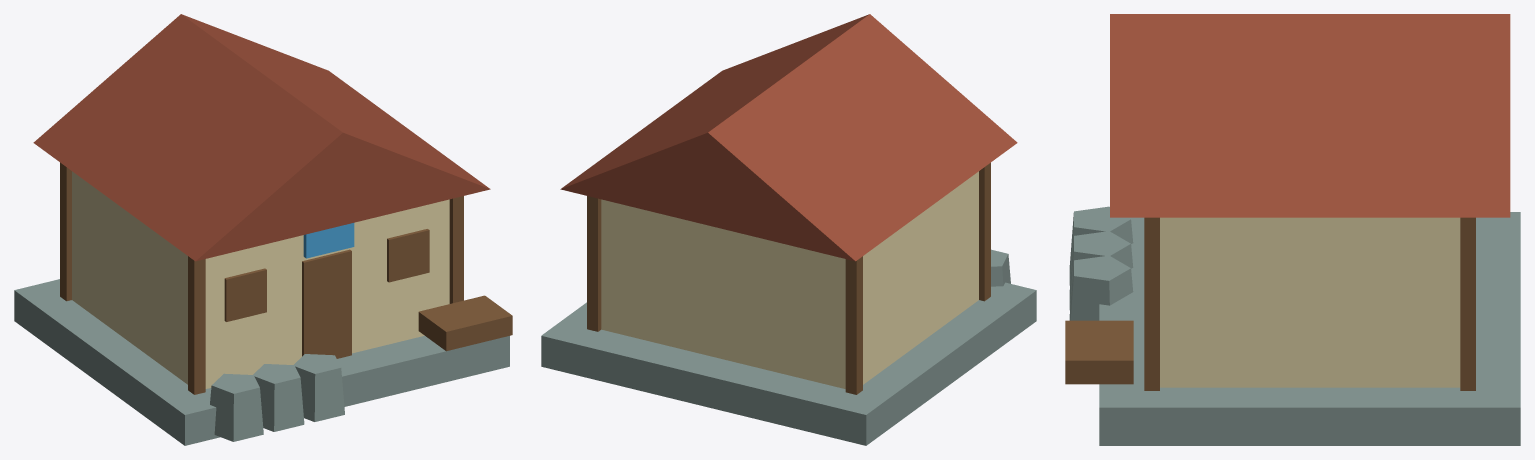
The model's file is stonemason.glb.
The picture shows the model from 3 angles, left to right: view 1: azimuth 30°, elevation 25°; view 2: azimuth 150°, elevation 25°; view 3: azimuth 270°, elevation 25°; orthographic projection. The views are drawn at different scales.
Parts seen in each view (by area): view 1: Gabled roof.001, Plaster walls.001, Foundation.002, Door.002, Work bench, Cut stone, Cut stone.001, Cut stone.002, Corner timber.004, Window.002, Window.003, Corner timber.005 (+2 smaller); view 2: Gabled roof.001, Plaster walls.001, Foundation.002, Corner timber.005, Corner timber.007, Corner timber.004, Cut stone; view 3: Gabled roof.001, Plaster walls.001, Foundation.002, Work bench, Cut stone.002, Corner timber.006, Corner timber.007, Cut stone.001, Cut stone.
Part boxes in pixels (box(x1,y1,x2,y2)): Gabled roof.001: box(33, 14, 490, 261); Plaster walls.001: box(72, 171, 449, 388); Foundation.002: box(14, 279, 509, 445); Door.002: box(302, 249, 351, 358); Work bench: box(418, 295, 512, 351); Cut stone: box(210, 373, 263, 441); Cut stone.001: box(252, 364, 304, 431); Cut stone.002: box(293, 354, 344, 421); Corner timber.004: box(188, 256, 205, 394); Window.002: box(224, 268, 266, 321); Window.003: box(387, 229, 429, 282); Corner timber.005: box(60, 162, 71, 301); Gabled roof.001: box(560, 14, 1017, 261); Plaster walls.001: box(601, 171, 978, 388); Foundation.002: box(541, 282, 1036, 445); Corner timber.005: box(845, 256, 862, 394); Corner timber.007: box(587, 196, 601, 331); Corner timber.004: box(979, 162, 990, 301); Cut stone: box(991, 249, 1010, 286); Gabled roof.001: box(1110, 14, 1510, 217); Plaster walls.001: box(1160, 217, 1460, 387); Foundation.002: box(1099, 212, 1520, 445); Work bench: box(1065, 320, 1133, 384); Cut stone.002: box(1069, 255, 1133, 320); Corner timber.006: box(1144, 217, 1159, 390); Corner timber.007: box(1460, 217, 1475, 390); Cut stone.001: box(1069, 231, 1133, 309); Cut stone: box(1069, 206, 1133, 285).
Size of the model in its own units: 4.4 by 3.5 by 4.32.
